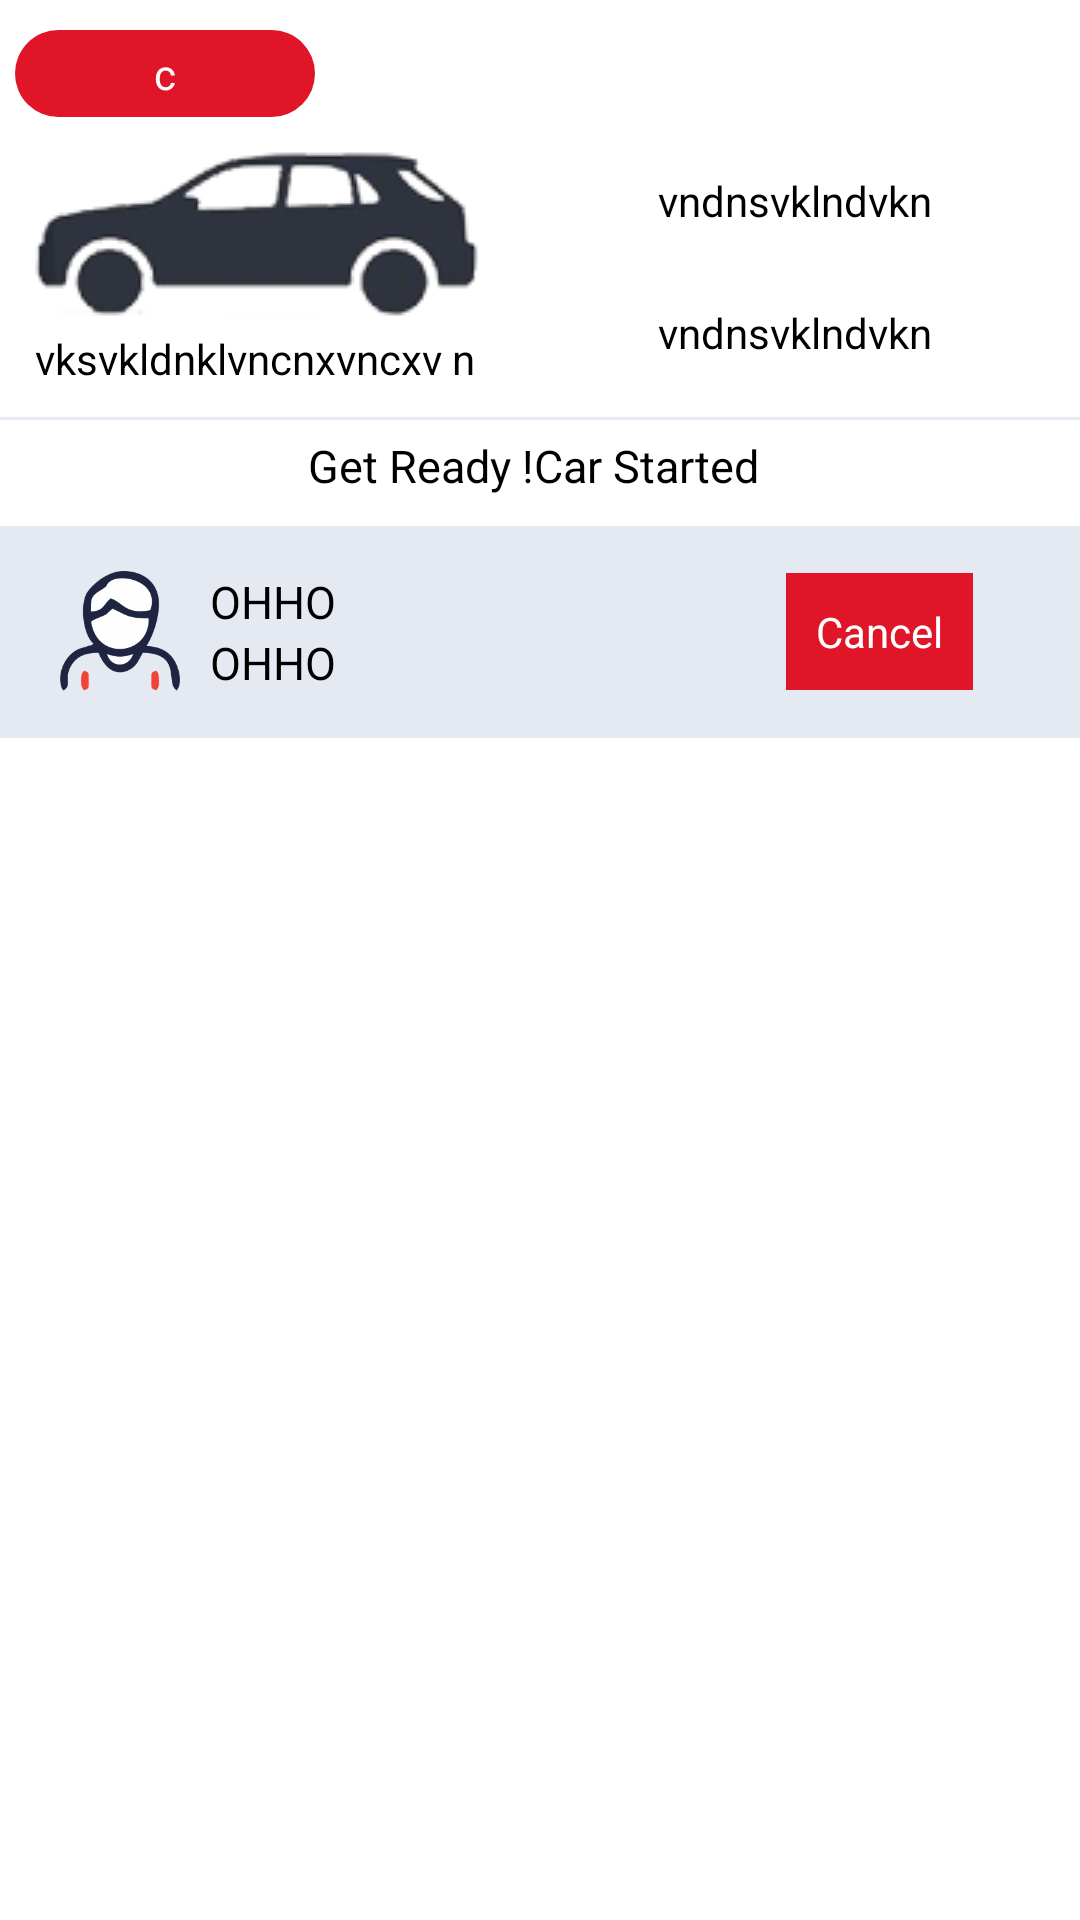

Icon bounding boxes for this 1080 x 1920 phone screenshot, format bbox=(x1, y1, x2, y2):
user: bbox=(60, 571, 180, 691)
